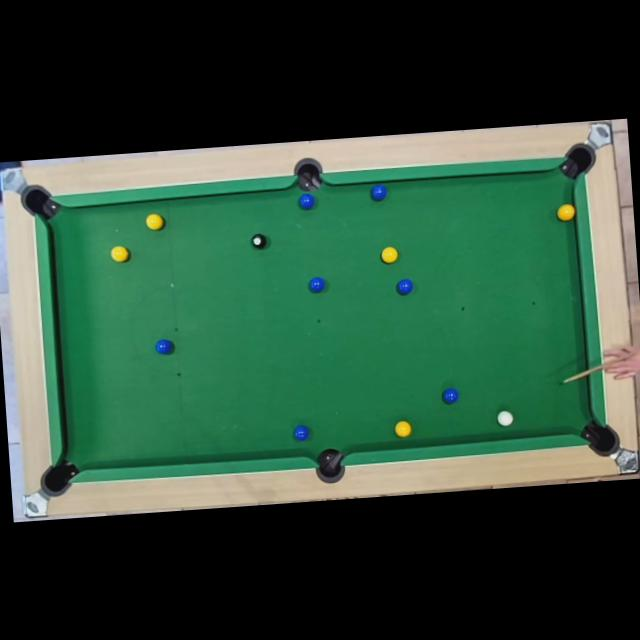Ball: (393, 420, 412, 437), (144, 213, 162, 230), (110, 245, 128, 262), (381, 246, 398, 264), (370, 184, 387, 201), (296, 193, 313, 210), (154, 338, 172, 354), (292, 424, 310, 440), (396, 278, 412, 296), (441, 388, 458, 404), (308, 276, 325, 292), (558, 203, 574, 220), (250, 233, 266, 249), (497, 411, 514, 426)
